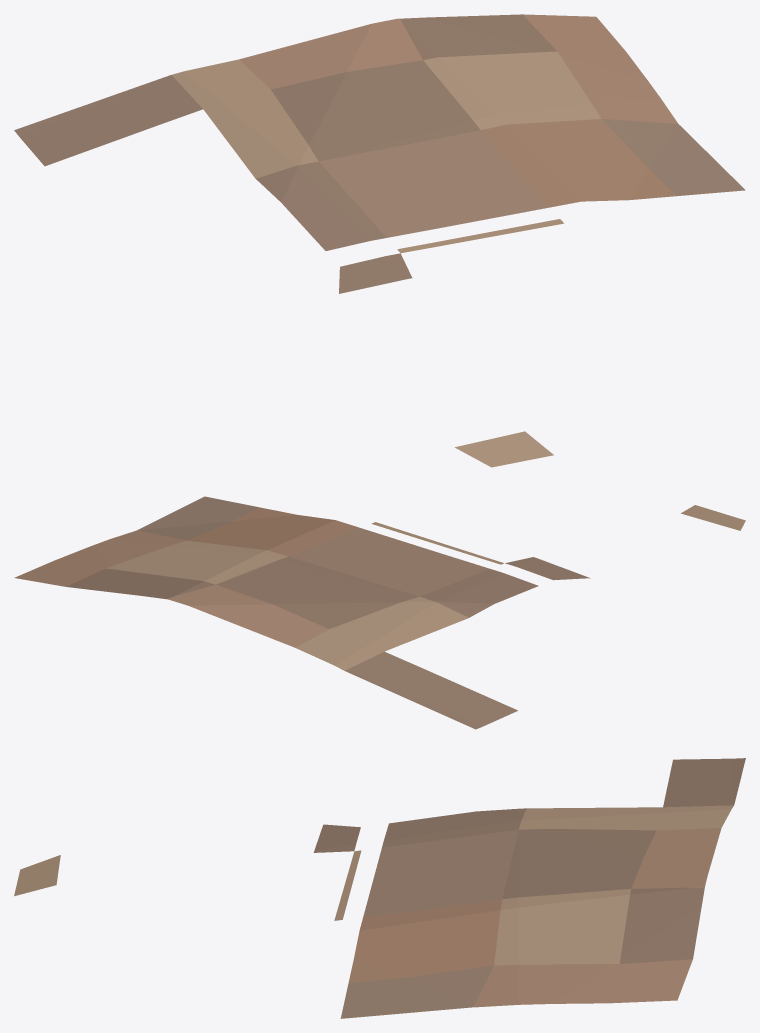
The model's file is farm_10_23_soil.glb.
The picture shows the model from 3 angles, top to bottom: view 1: azimuth 30°, elevation 25°; view 2: azimuth 150°, elevation 25°; view 3: azimuth 270°, elevation 25°; orthographic projection. The views are drawn at different scales.
Parts seen in each view (by area): view 1: geometry_0; view 2: geometry_0; view 3: geometry_0.
Boxes of the visible parts, bbox=[...] form: geometry_0: bbox=[14, 14, 745, 467]; geometry_0: bbox=[14, 496, 745, 729]; geometry_0: bbox=[14, 758, 745, 1018].
Size of the model in its own units: 224 by 44.21 by 273.
